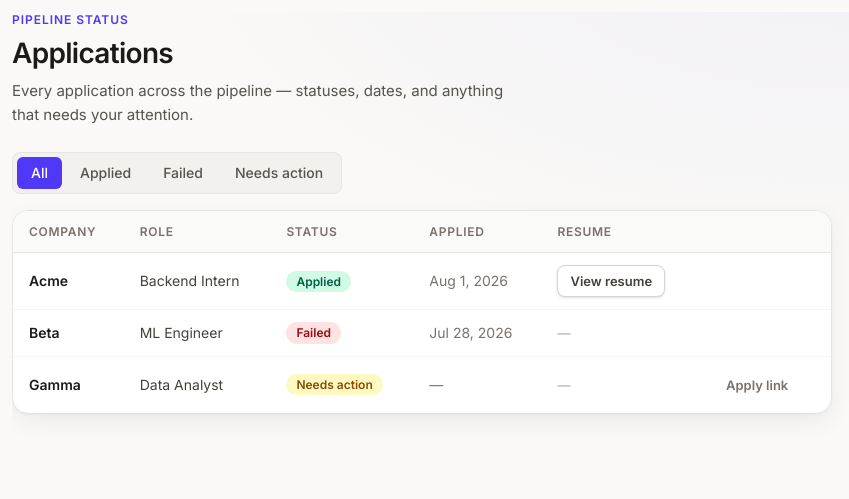
Test: ApplicationsPage › reveals the manual apply link for a needs_action row when expanded
Expected: the text "Gamma" is shown, [13, 356, 124, 413]
Step 1. Click the button "Apply link" → (757, 385), box [713, 369, 801, 401]
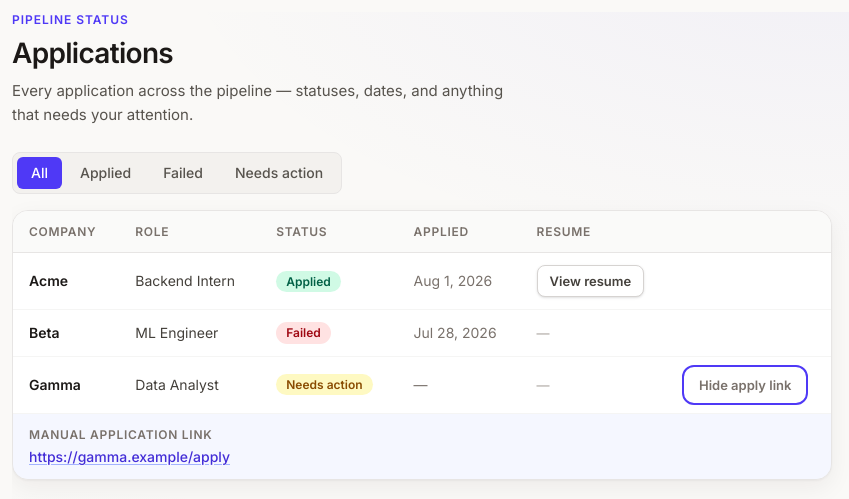
Expected: the button "Hide apply link" is expanded, [686, 369, 804, 401]
